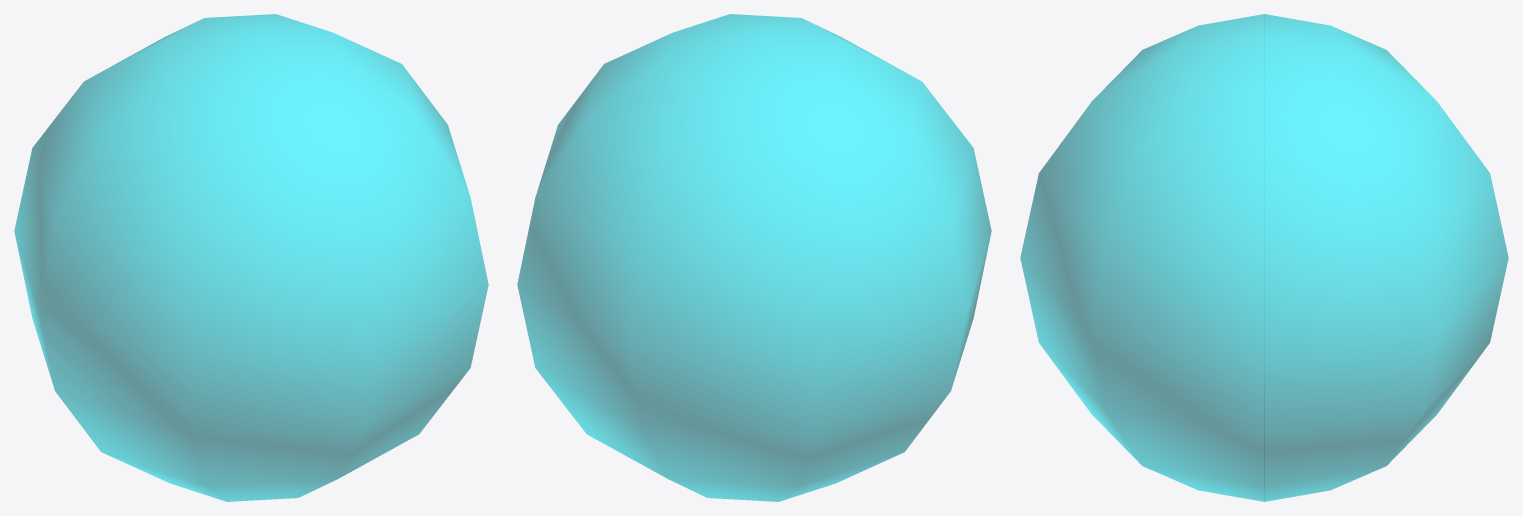
File: default_canopy.glb
3 renders of one model, left to right at view 1: azimuth 30°, elevation 25°; view 2: azimuth 150°, elevation 25°; view 3: azimuth 270°, elevation 25°, orthographic.
Visible parts, largest first — view 1: dummy_canopy; view 2: dummy_canopy; view 3: dummy_canopy.
Boxes of the visible parts, bbox=[...] form: dummy_canopy: bbox=[14, 14, 488, 501]; dummy_canopy: bbox=[517, 14, 991, 501]; dummy_canopy: bbox=[1020, 14, 1508, 501].
Bounding box in the file's own units: 0.6 × 0.6 × 0.6.
